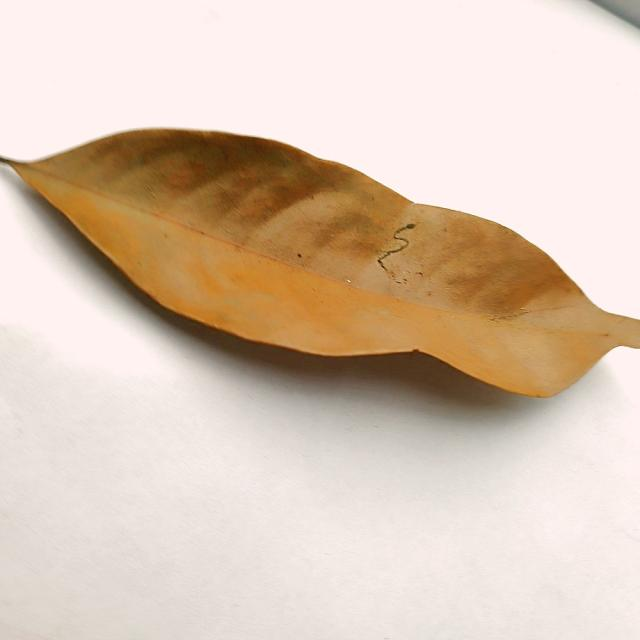Dry_Leaf-Lychee: (0, 128, 639, 401)
